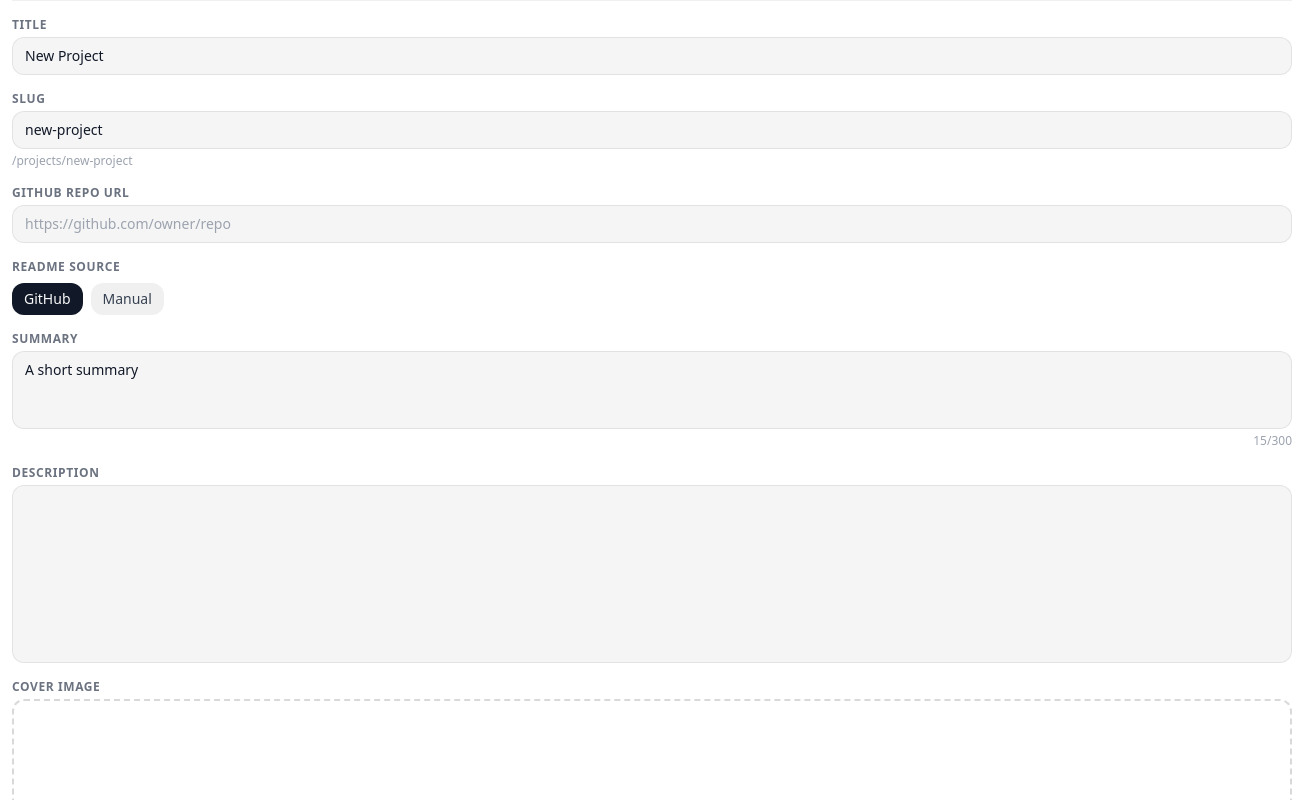
Scenario: ProjectForm - slug › auto-fills the slug from the name for a project without a saved slug
Expected: the field labelled "Slug" holds "new-project", [12,111,1292,149]
Replace the text in the 1st field with "Enki App" at {"x": 652, "y": 56}, box [12,37,1292,75]
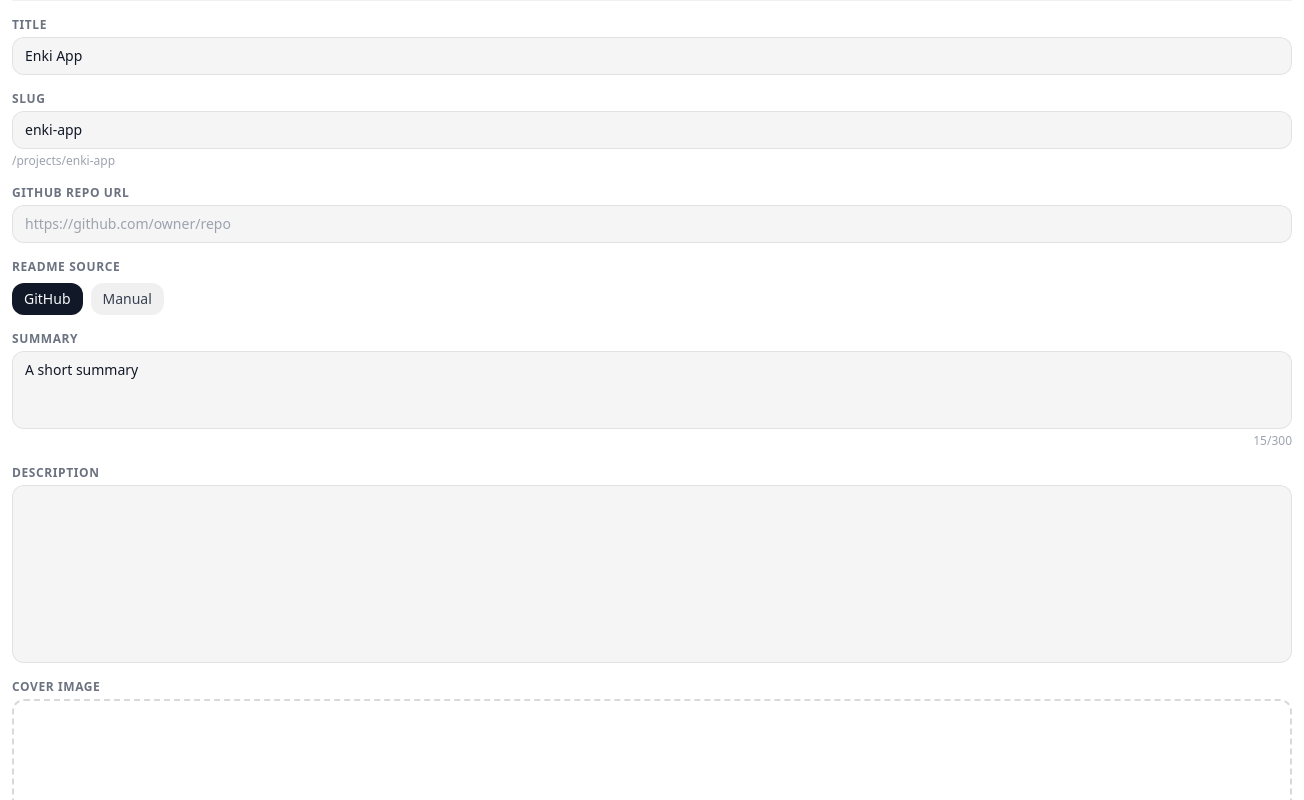
Expected: the field labelled "Slug" holds "enki-app", [12,111,1292,149]
